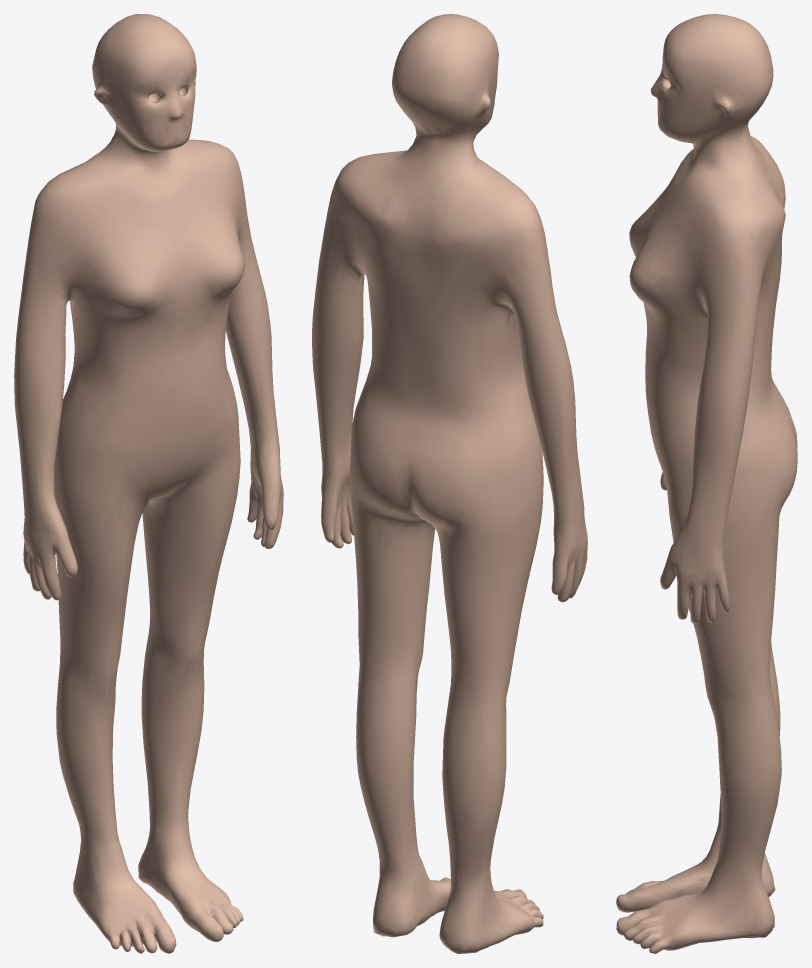
File: pediatric_adolescent_female.surface.LOD1.glb
The picture shows the model from 3 angles, left to right: view 1: azimuth 30°, elevation 25°; view 2: azimuth 150°, elevation 25°; view 3: azimuth 270°, elevation 25°; orthographic projection. The views are drawn at different scales.
Visible parts, largest first — view 1: PEDIATRIC.ADOLESCENT.FEMALE.SURFACE.SKIN; view 2: PEDIATRIC.ADOLESCENT.FEMALE.SURFACE.SKIN; view 3: PEDIATRIC.ADOLESCENT.FEMALE.SURFACE.SKIN.
Part boxes in pixels (x1=…): PEDIATRIC.ADOLESCENT.FEMALE.SURFACE.SKIN: x1=14, y1=14, x2=283, y2=953; PEDIATRIC.ADOLESCENT.FEMALE.SURFACE.SKIN: x1=312, y1=14, x2=587, y2=953; PEDIATRIC.ADOLESCENT.FEMALE.SURFACE.SKIN: x1=616, y1=14, x2=797, y2=953.
Size of the model in its own units: 0.473 by 1.61 by 0.2924.
